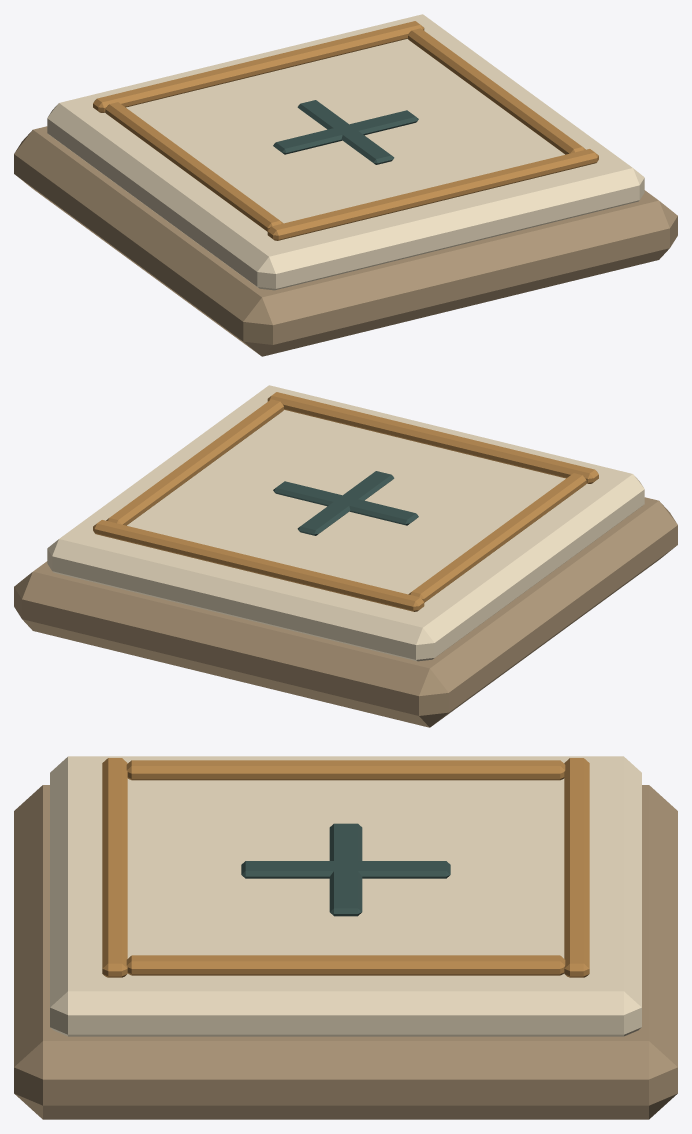
File: Environment_BuildPad.fbx
3 views of the same model, one above another, from view 1: azimuth 30°, elevation 25°; view 2: azimuth 150°, elevation 25°; view 3: azimuth 270°, elevation 25° (orthographic). The views are drawn at different scales.
Parts seen in each view (by area): view 1: Environment_BuildPad; view 2: Environment_BuildPad; view 3: Environment_BuildPad.
Boxes of the visible parts, bbox=[...] form: Environment_BuildPad: bbox=[14, 14, 677, 356]; Environment_BuildPad: bbox=[14, 385, 677, 727]; Environment_BuildPad: bbox=[14, 756, 677, 1119].
Bounding box in the file's own units: 0.92 × 0.2 × 0.92.
